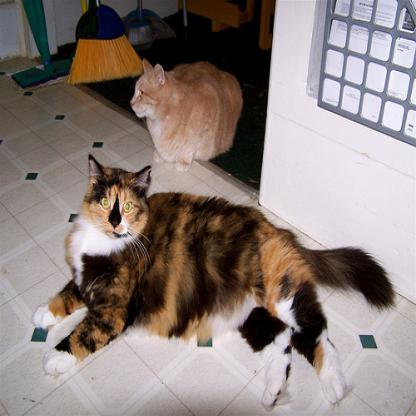Dog: (45, 170, 352, 392), (122, 38, 253, 165)
